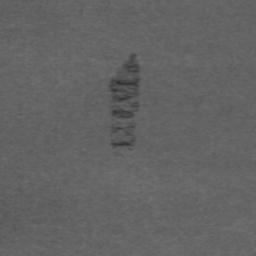Secondary rust skin: (108, 54, 141, 119), (110, 123, 136, 148)
